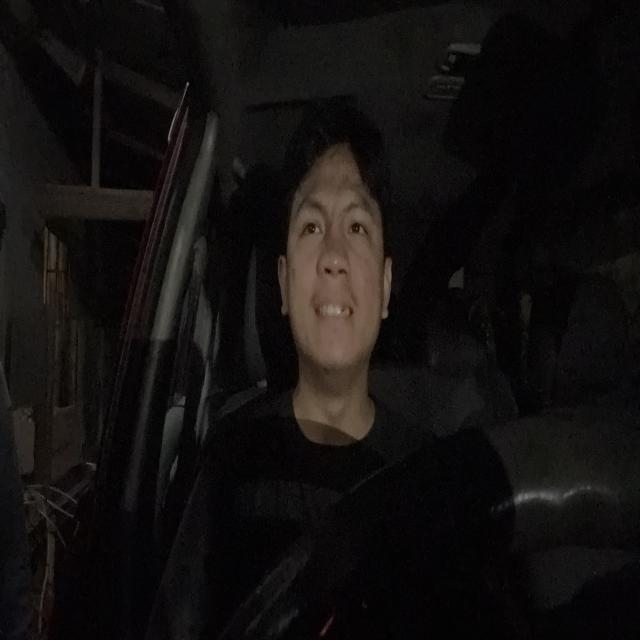open: (288, 198, 328, 252), (346, 202, 377, 254)
